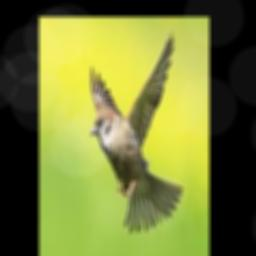Sparrow: (90, 29, 183, 233)
